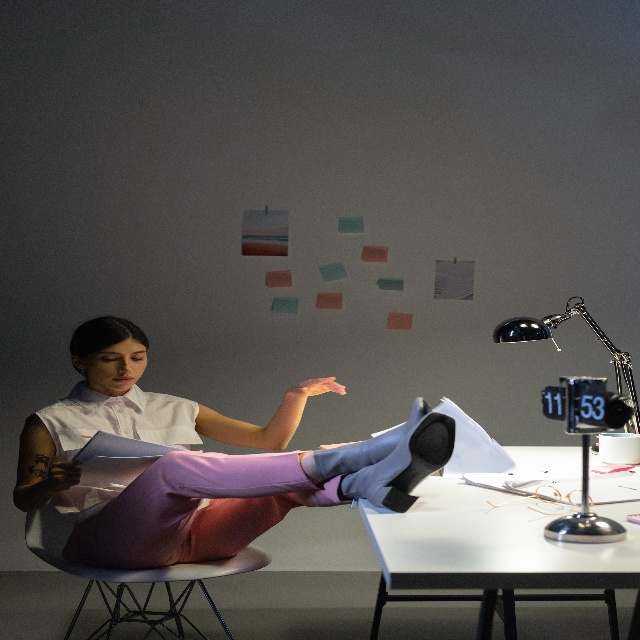Gafas: (534, 482, 593, 516)
Sin_guantes: (290, 375, 347, 400), (49, 459, 82, 488)
